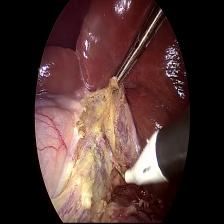Grasper: (104, 6, 165, 99)
Hook: (109, 129, 166, 195)
